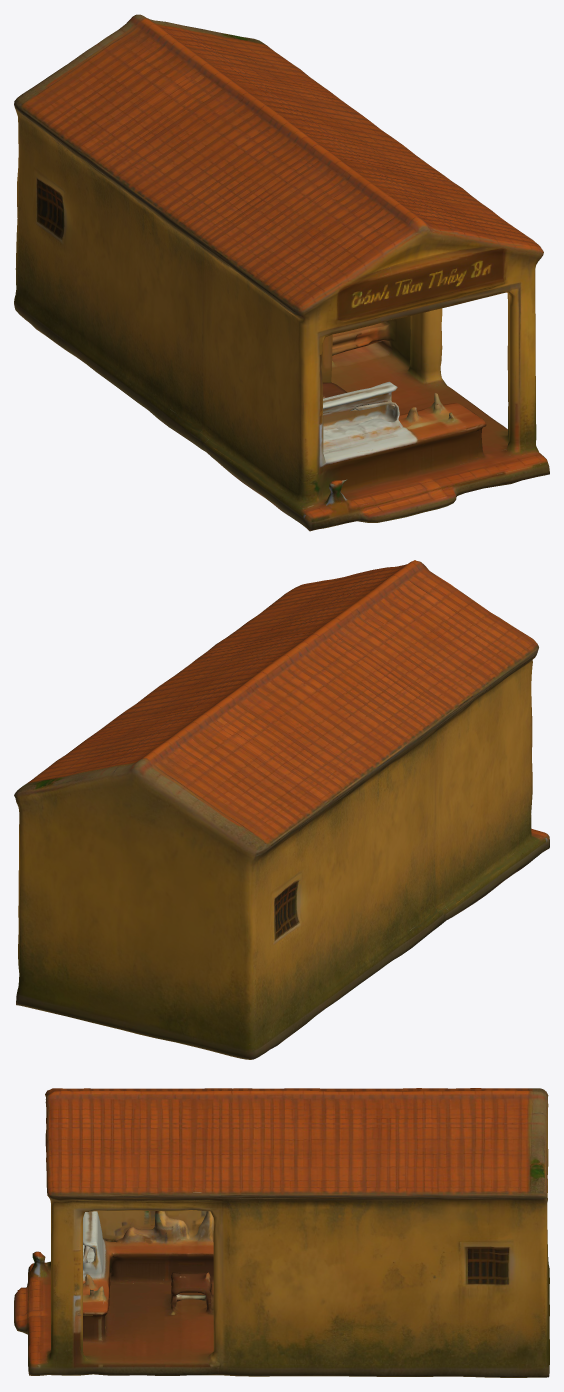
Rendered from tripo_convert_a3188365-9f03-435e-8ef9-3338ebdd5cdb.fbx.
The picture shows the model from 3 angles, top to bottom: view 1: azimuth 30°, elevation 25°; view 2: azimuth 150°, elevation 25°; view 3: azimuth 270°, elevation 25°; orthographic projection. The views are drawn at different scales.
Visible parts, largest first — view 1: tripo_node_a3188365; view 2: tripo_node_a3188365; view 3: tripo_node_a3188365.
Part boxes in pixels (x1=…): tripo_node_a3188365: x1=14, y1=14, x2=549, y2=531; tripo_node_a3188365: x1=14, y1=560, x2=549, y2=1059; tripo_node_a3188365: x1=14, y1=1088, x2=549, y2=1377.
Size of the model in its own units: 0.4688 by 0.5437 by 1.
Materials: 1 (1 with a texture image).
